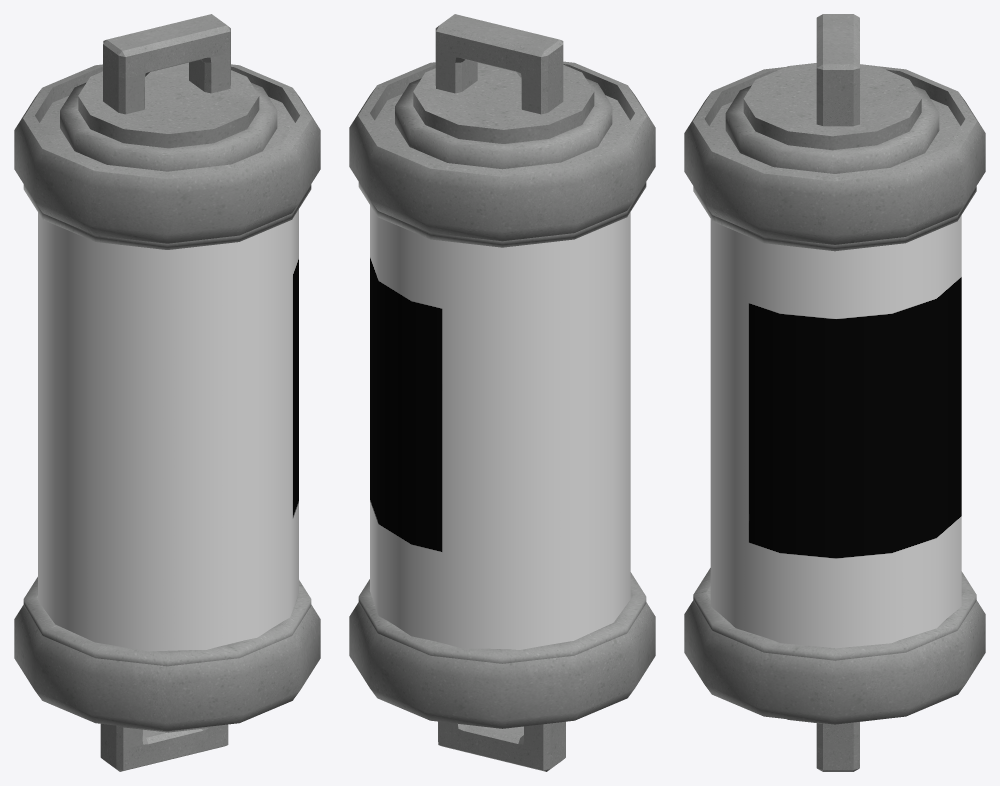
The model's file is PickUp_ToxicContainer_v4.fbx.
The picture shows the model from 3 angles, left to right: view 1: azimuth 30°, elevation 25°; view 2: azimuth 150°, elevation 25°; view 3: azimuth 270°, elevation 25°; orthographic projection.
Visible parts, largest first — view 1: emblem, polySurface14, pasted__polySurface14, polySurface10, pasted__polySurface10; view 2: emblem, polySurface14, pasted__polySurface14, polySurface10, pasted__polySurface10; view 3: emblem, polySurface14, pasted__polySurface14, polySurface10, pasted__polySurface10.
Part boxes in pixels (left/top/right/bottom): emblem: left=38, top=209, right=298, bottom=651; polySurface14: left=14, top=62, right=320, bottom=249; pasted__polySurface14: left=14, top=577, right=320, bottom=732; polySurface10: left=103, top=14, right=230, bottom=114; pasted__polySurface10: left=100, top=724, right=228, bottom=771; emblem: left=370, top=205, right=630, bottom=649; polySurface14: left=349, top=61, right=655, bottom=247; pasted__polySurface14: left=349, top=572, right=655, bottom=728; polySurface10: left=435, top=14, right=563, bottom=114; pasted__polySurface10: left=438, top=721, right=565, bottom=771; emblem: left=710, top=215, right=961, bottom=648; polySurface14: left=684, top=63, right=985, bottom=251; pasted__polySurface14: left=684, top=568, right=985, bottom=724; polySurface10: left=816, top=14, right=859, bottom=126; pasted__polySurface10: left=816, top=722, right=859, bottom=771.
Size of the model in its own units: 0.4787 by 1.24 by 0.4787.
